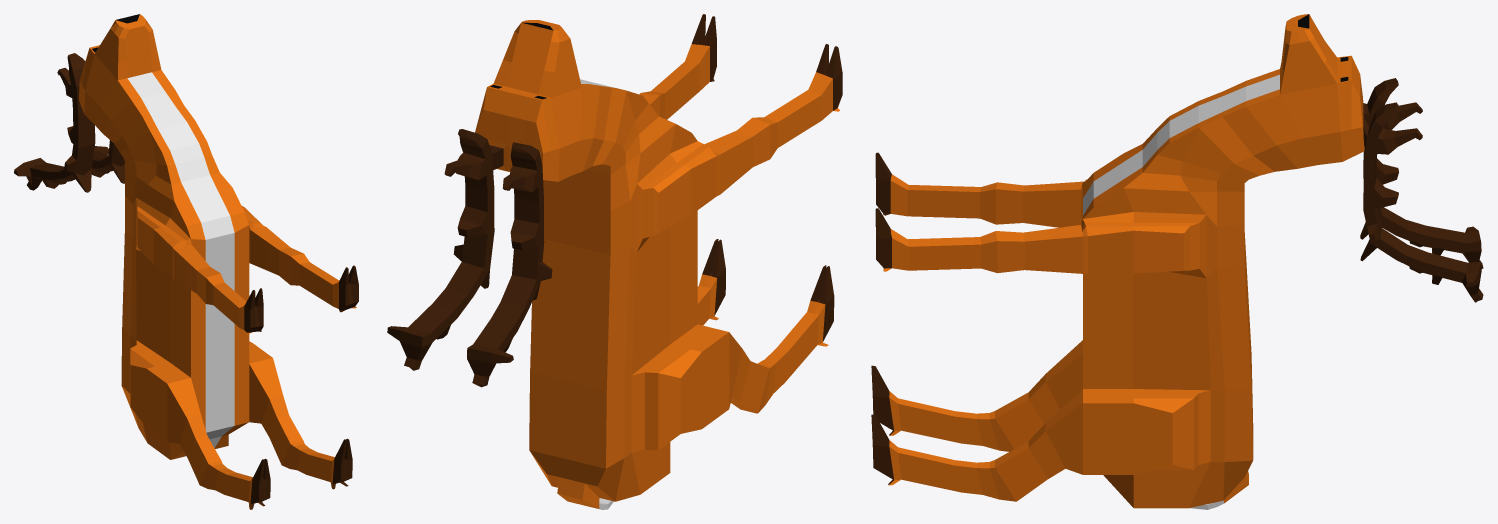
File: deer.fbx
The picture shows the model from 3 angles, left to right: view 1: azimuth 30°, elevation 25°; view 2: azimuth 150°, elevation 25°; view 3: azimuth 270°, elevation 25°; orthographic projection. The views are drawn at different scales.
Parts seen in each view (by area): view 1: Deer; view 2: Deer; view 3: Deer.
Part boxes in pixels (x1,y1,x2,y2): Deer: (14, 14, 358, 509); Deer: (387, 14, 842, 509); Deer: (871, 14, 1483, 509).
Size of the model in its own units: 42.71 by 144 by 166.
